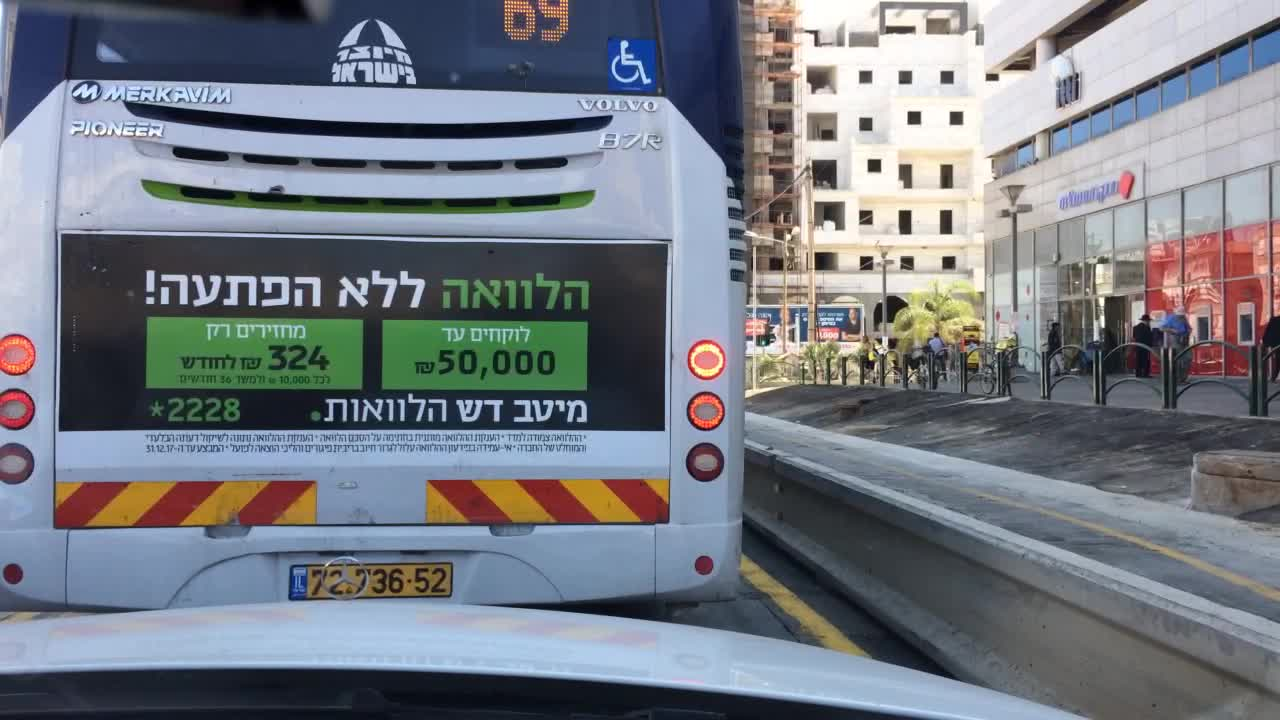bike: (978, 358, 1010, 391)
bus: (4, 1, 744, 616)
person: (1159, 307, 1193, 385), (1260, 307, 1278, 381), (1043, 321, 1066, 375), (1134, 312, 1153, 375), (863, 336, 880, 379), (929, 333, 947, 373)
traffic light: (756, 333, 771, 347)
